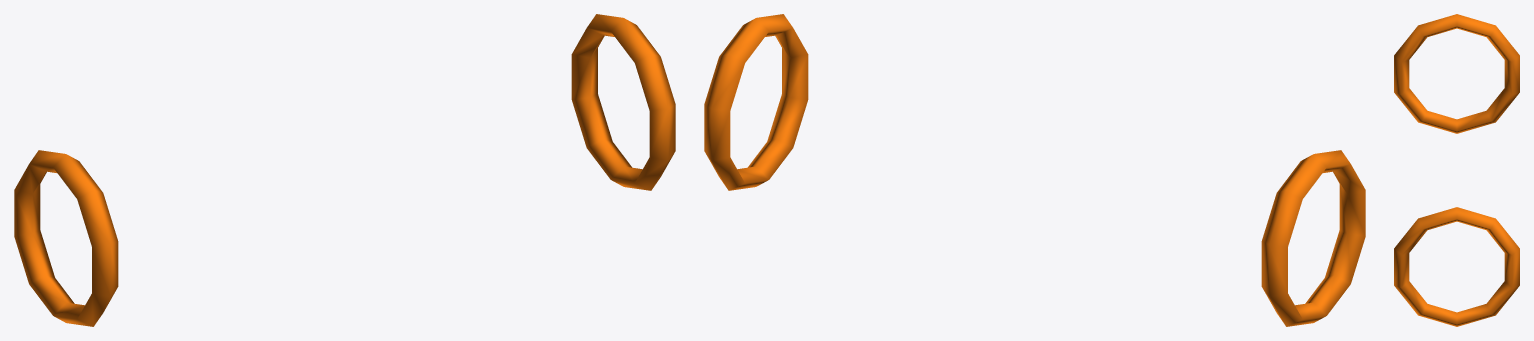
File: Earrings_01.glb
3 renders of one model, left to right at view 1: azimuth 30°, elevation 25°; view 2: azimuth 150°, elevation 25°; view 3: azimuth 270°, elevation 25°, orthographic. The views are drawn at different scales.
Visible parts, largest first — view 1: Earrings_01; view 2: Earrings_01; view 3: Earrings_01.
Boxes of the visible parts, <box> form: Earrings_01: <box>14,14,675,326</box>; Earrings_01: <box>704,14,1365,326</box>; Earrings_01: <box>1394,14,1519,326</box>.
Bounding box in the file's own units: 0.5937 × 0.1643 × 0.1563.
1 material, 1 textured.
